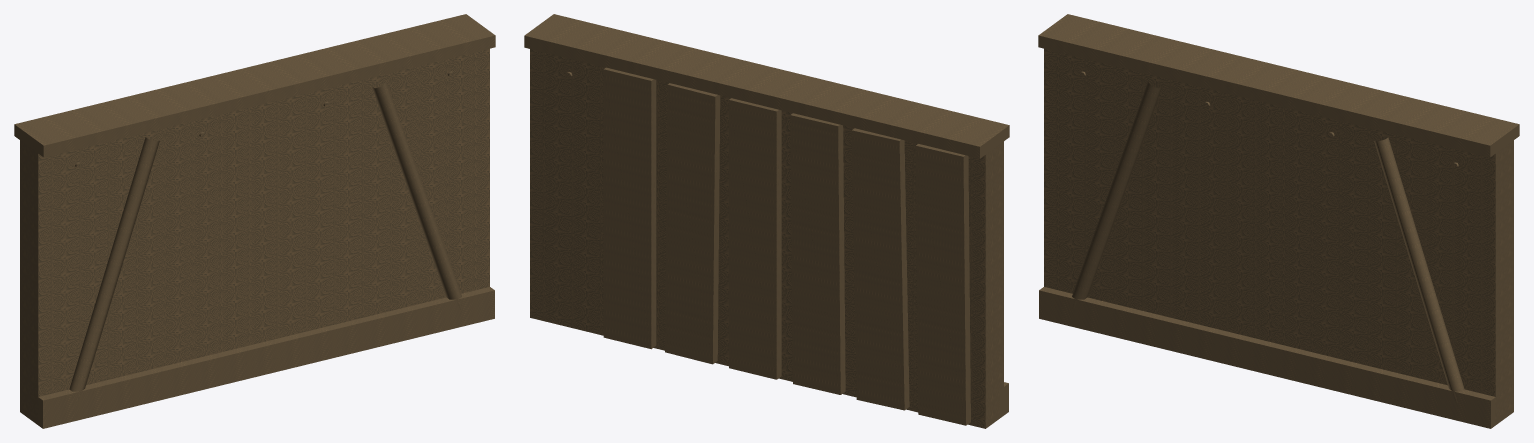
Rendered from trench-wall.glb.
3 renders of one model, left to right at view 1: azimuth 30°, elevation 25°; view 2: azimuth 150°, elevation 25°; view 3: azimuth 330°, elevation 25°, orthographic.
Visible parts, largest first — view 1: LOD0; view 2: LOD0; view 3: LOD0.
Boxes of the visible parts, x1,y1,x2,y2 form: LOD0: (14, 14, 495, 428); LOD0: (524, 14, 1009, 428); LOD0: (1038, 14, 1519, 428).
Bounding box in the file's own units: 4 × 2.4 × 0.45.
1 material, 1 textured.
